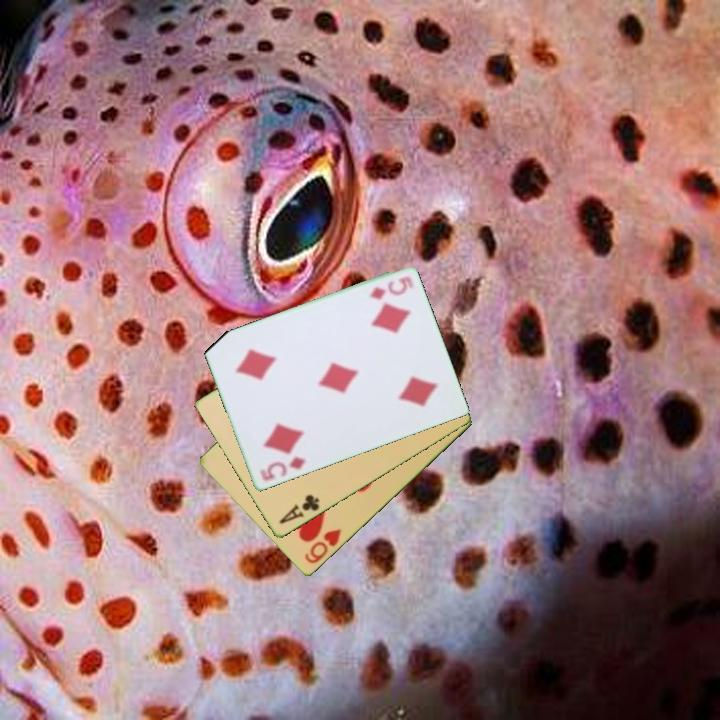5d: (256, 454, 308, 484), (366, 273, 417, 303)
6h: (301, 526, 344, 567)
Ac: (275, 491, 322, 527)
